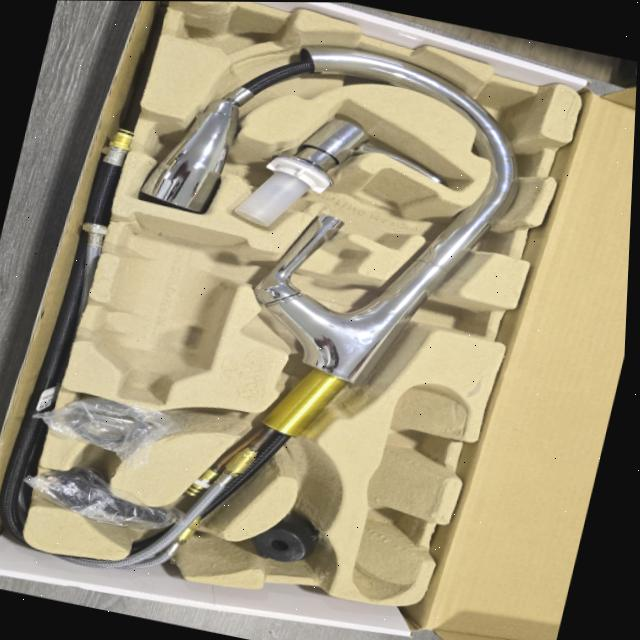1: (131, 43, 518, 570)
2: (231, 117, 440, 226)
3m: (90, 212, 247, 404)
4m: (350, 383, 469, 599)
5: (256, 511, 320, 561)
6: (30, 396, 179, 469)
7: (23, 464, 181, 531)
